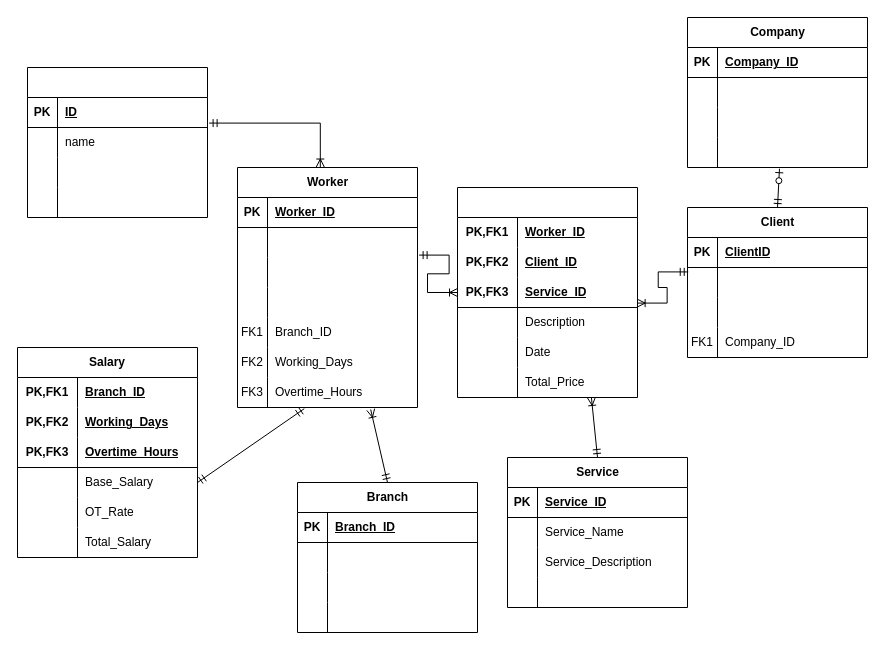
The diagram is 885 pixels wide and 650 high, and some of its shapes have lost their labels. Here are the shapes that lost their labels. From the top down, the box of each, then its label:
(26, 66, 208, 218): Manager
(456, 186, 638, 398): Business
